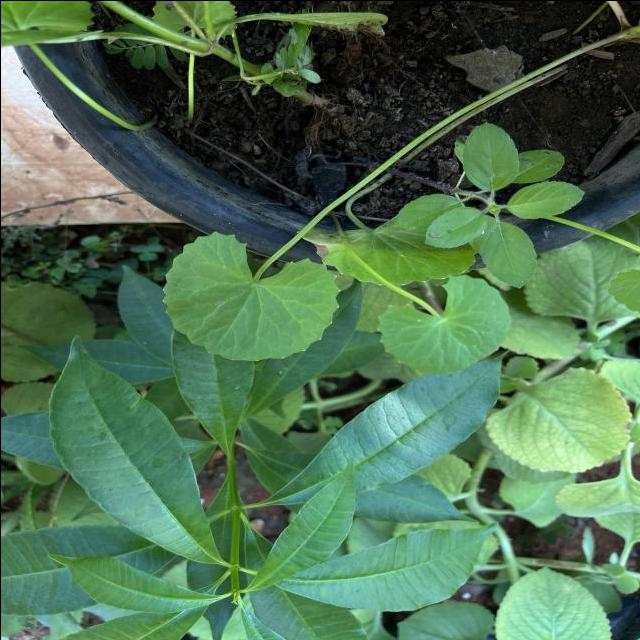Centella asiatica: (158, 228, 342, 364)
